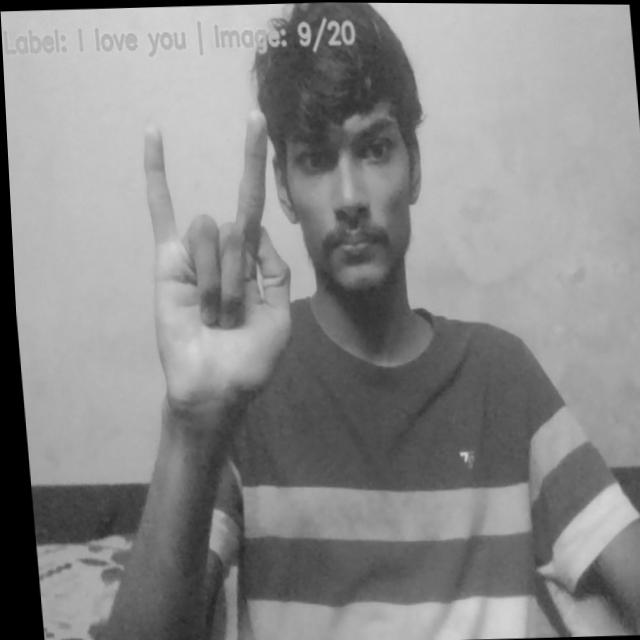I love you: (135, 110, 300, 406)
